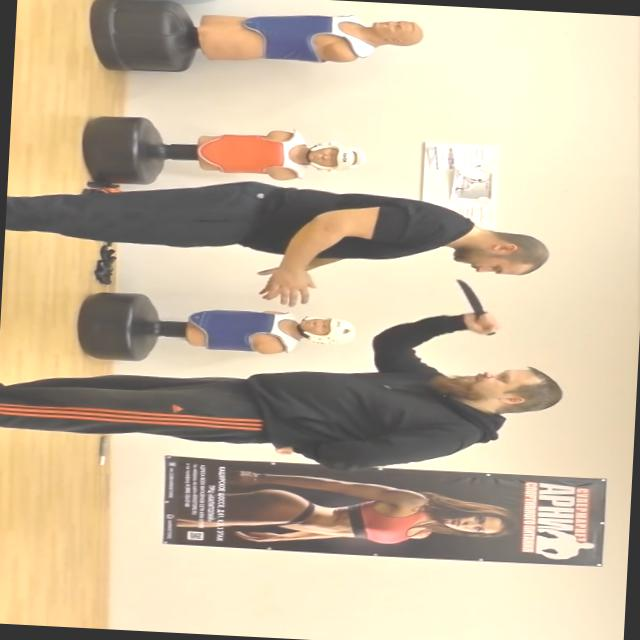knife: (448, 273, 502, 337)
